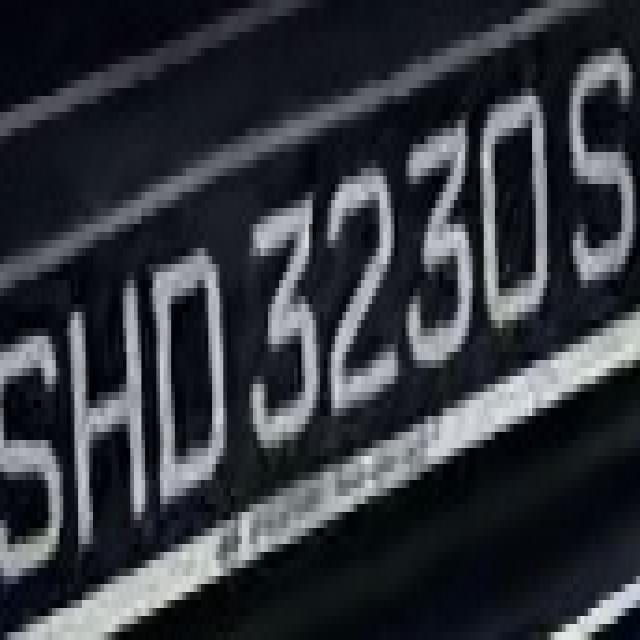0: (480, 80, 551, 352)
2: (312, 144, 406, 424)
3: (394, 104, 476, 376), (242, 176, 320, 456)
D: (145, 232, 242, 504)
H: (59, 264, 152, 544)
S: (554, 48, 640, 304), (7, 288, 67, 608)
